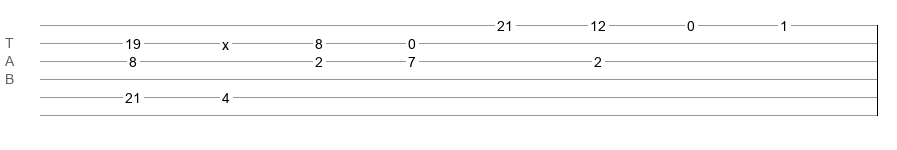0: (408, 36, 416, 46), (687, 18, 695, 28)
1: (780, 18, 788, 28)
12: (590, 18, 606, 28)
19: (125, 36, 141, 46)
2: (315, 54, 323, 64), (594, 54, 602, 64)
21: (125, 90, 141, 100), (497, 18, 513, 28)
4: (222, 90, 230, 100)
7: (408, 54, 416, 64)
8: (129, 54, 137, 64), (315, 36, 323, 46)
x: (222, 37, 229, 45)
